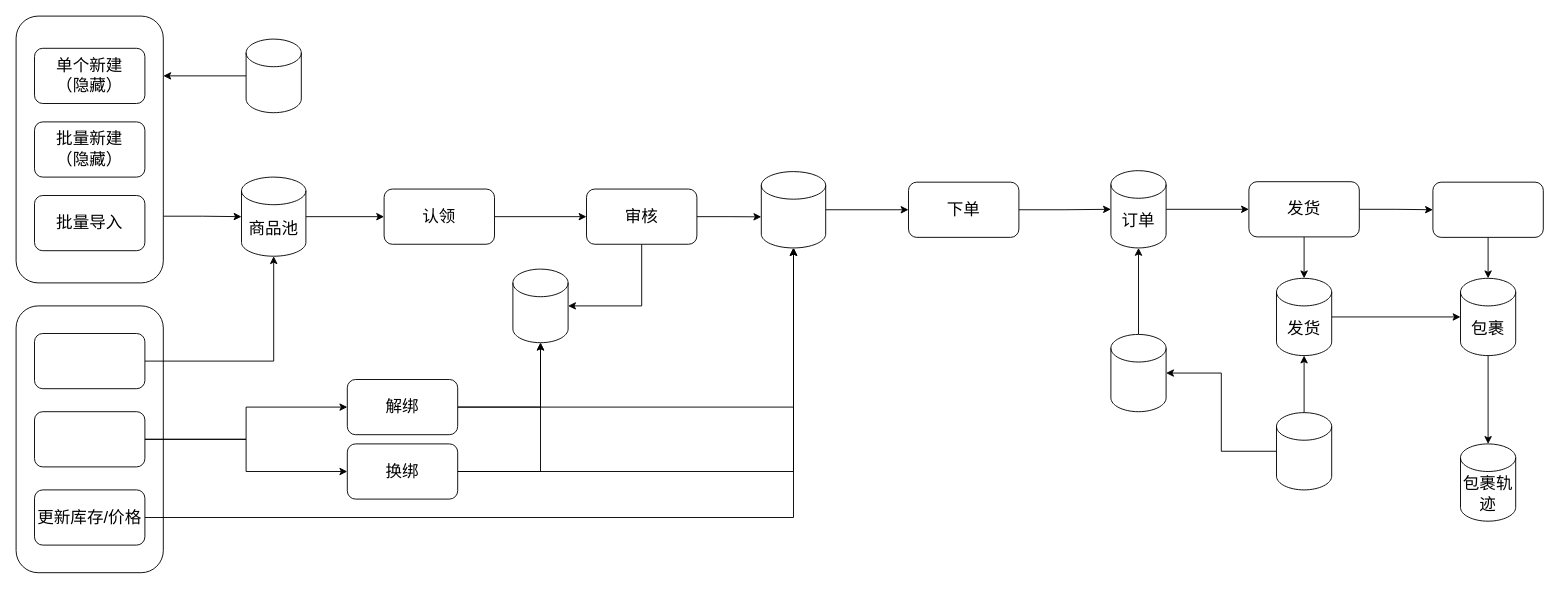
The diagram is 1559 pixels wide and 589 high, and some of its shapes have lost their labels. The shapes that lost their labels are listed below. From the top down, each one's centre as x and y in pixels, then its label:
At (x=273, y=75): "STO".
At (x=793, y=209): "供货池".
At (x=1487, y=209): "申通下单".
At (x=540, y=305): "OFFER".
At (x=89, y=361): "更新期望价格".
At (x=1138, y=373): "订单详情".
At (x=89, y=439): "更新供应商".
At (x=1304, y=451): "发货详情".
